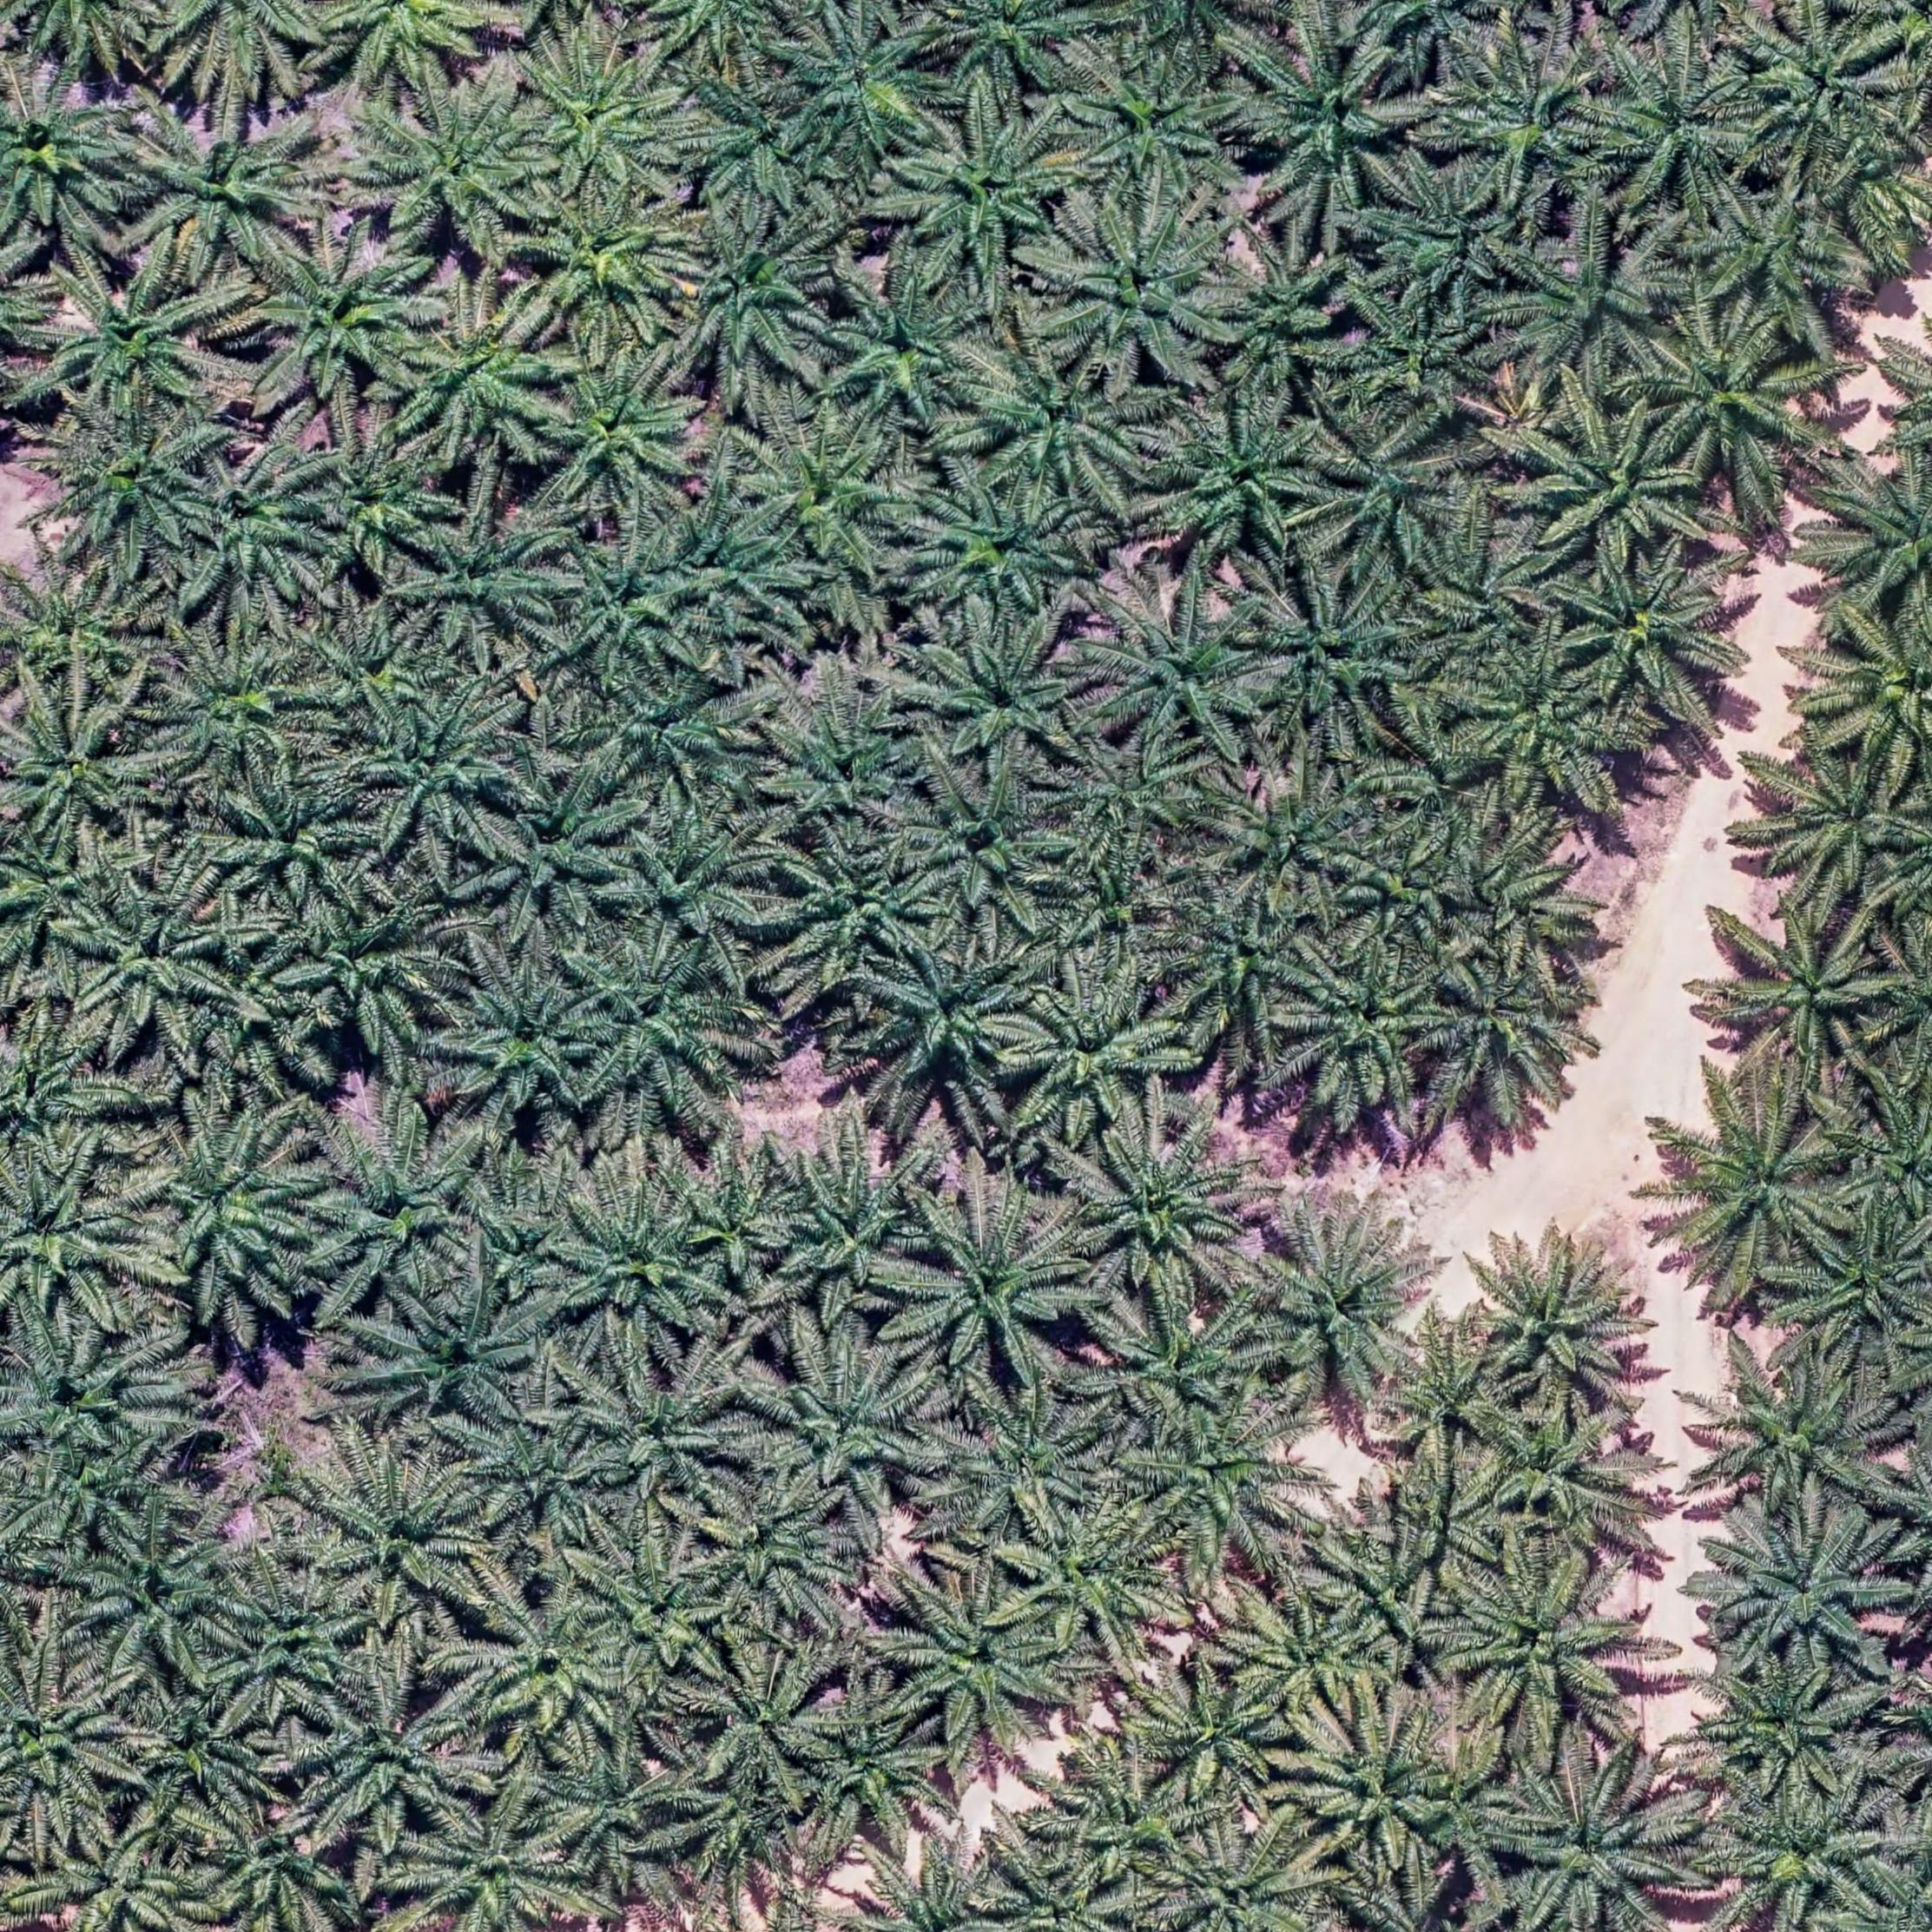palmtree: (1437, 1548, 1649, 1748), (1651, 1083, 1854, 1284), (1690, 1346, 1907, 1529), (119, 96, 329, 281), (564, 936, 761, 1125), (895, 1200, 1093, 1385), (310, 1109, 495, 1307), (1051, 203, 1247, 389), (1251, 1210, 1437, 1405), (1242, 25, 1428, 218), (354, 74, 554, 253), (35, 248, 237, 425), (237, 230, 433, 410), (754, 1336, 950, 1516), (1707, 1506, 1909, 1681), (1500, 1750, 1697, 1928), (136, 1113, 324, 1299), (886, 1575, 1076, 1759), (1070, 1115, 1261, 1295), (1120, 1396, 1316, 1571), (1718, 897, 1900, 1085), (1086, 584, 1281, 759), (1638, 313, 1824, 495), (1246, 568, 1437, 745), (301, 1449, 494, 1624), (453, 1569, 637, 1752), (301, 1665, 490, 1842), (1497, 223, 1688, 398), (34, 400, 232, 568), (968, 350, 1166, 513), (1001, 970, 1187, 1143), (1472, 1233, 1652, 1410), (65, 1513, 253, 1683), (858, 939, 1044, 1108), (1150, 398, 1339, 563), (1686, 172, 1870, 340), (1711, 1776, 1913, 1928), (1279, 948, 1456, 1122), (1454, 640, 1633, 812), (547, 1184, 727, 1353), (895, 111, 1077, 280), (1522, 407, 1707, 571), (768, 1139, 941, 1315), (536, 350, 713, 520), (1477, 1399, 1658, 1566), (908, 623, 1095, 782), (667, 214, 840, 386), (690, 1474, 867, 1642), (350, 685, 529, 851), (1552, 552, 1734, 715), (393, 290, 568, 458), (1684, 1654, 1877, 1806), (743, 418, 927, 577), (522, 180, 702, 341), (893, 777, 1079, 932), (513, 35, 688, 200), (1417, 948, 1592, 1113), (361, 1281, 550, 1433), (1070, 50, 1251, 207), (1598, 46, 1766, 214), (173, 449, 341, 617), (472, 771, 644, 936), (1005, 1500, 1184, 1658), (575, 1352, 754, 1509), (0, 60, 147, 251), (1438, 39, 1605, 207), (1292, 1700, 1451, 1875), (906, 476, 1090, 626), (0, 1145, 150, 1329), (938, 1391, 1118, 1543), (1162, 885, 1338, 1040), (1755, 748, 1923, 909), (823, 269, 993, 428), (545, 533, 718, 688), (1431, 812, 1598, 973), (1311, 414, 1472, 577), (1207, 237, 1362, 405), (770, 830, 945, 978), (577, 1532, 738, 1693), (0, 1651, 138, 1838), (64, 878, 226, 1035), (405, 501, 575, 651), (272, 909, 453, 1051), (120, 1675, 292, 1824), (1200, 766, 1382, 906), (784, 12, 950, 165), (150, 637, 320, 786), (1095, 1293, 1269, 1438), (579, 669, 764, 803), (1332, 290, 1507, 432), (1737, 9, 1895, 165), (448, 968, 609, 1120), (218, 1571, 380, 1720), (1373, 163, 1534, 308), (1044, 1748, 1205, 1893), (602, 817, 782, 947), (4, 694, 161, 840), (0, 563, 159, 708), (1131, 1660, 1293, 1801), (297, 432, 453, 579), (412, 1799, 584, 1932), (761, 688, 934, 819), (794, 1700, 947, 1849), (462, 1417, 628, 1552), (0, 1320, 159, 1460), (692, 1647, 844, 1792), (1783, 1212, 1932, 1359), (1049, 839, 1196, 987), (34, 1810, 212, 1932), (214, 780, 375, 915), (1224, 1591, 1387, 1723), (681, 74, 832, 214), (1817, 600, 1932, 780), (1056, 725, 1219, 853), (140, 0, 343, 99), (541, 1737, 676, 1886), (198, 1805, 354, 1932), (663, 510, 807, 646), (1316, 1516, 1449, 1663), (1378, 1329, 1514, 1468), (1166, 1826, 1345, 1932), (1821, 451, 1932, 621), (1417, 518, 1559, 649), (315, 0, 501, 96), (0, 1021, 117, 1171), (1829, 1077, 1932, 1246), (669, 1771, 805, 1897), (297, 614, 439, 732), (1419, 1737, 1530, 1882), (844, 1844, 1026, 1932), (1389, 1456, 1511, 1580), (683, 1152, 803, 1276), (943, 0, 1100, 94), (989, 1856, 1150, 1932)
